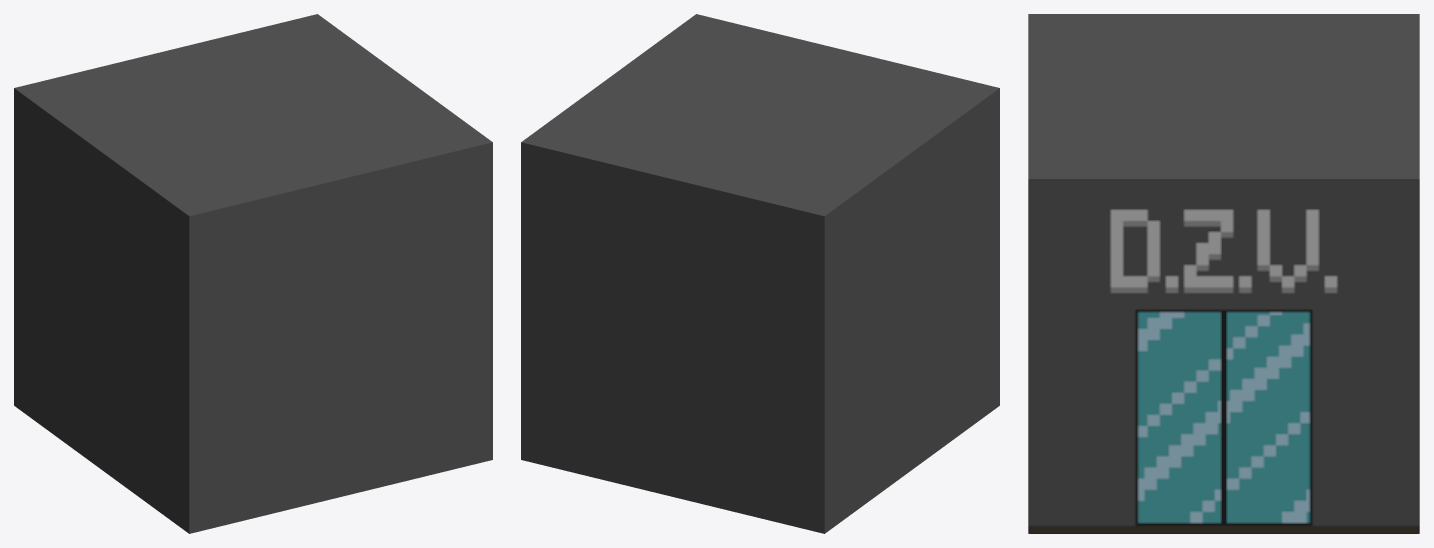
The model's file is GlassBuildingV128x128_Ground03.fbx.
The picture shows the model from 3 angles, left to right: view 1: azimuth 30°, elevation 25°; view 2: azimuth 150°, elevation 25°; view 3: azimuth 270°, elevation 25°; orthographic projection. The views are drawn at different scales.
Visible parts, largest first — view 1: Ground03; view 2: Ground03; view 3: Ground03.
Part boxes in pixels (<box>): Ground03: <box>14,14,492,533</box>; Ground03: <box>521,14,999,533</box>; Ground03: <box>1028,14,1419,533</box>.
Size of the model in its own units: 100 by 100 by 100.
Materials: 1 (1 with a texture image).
